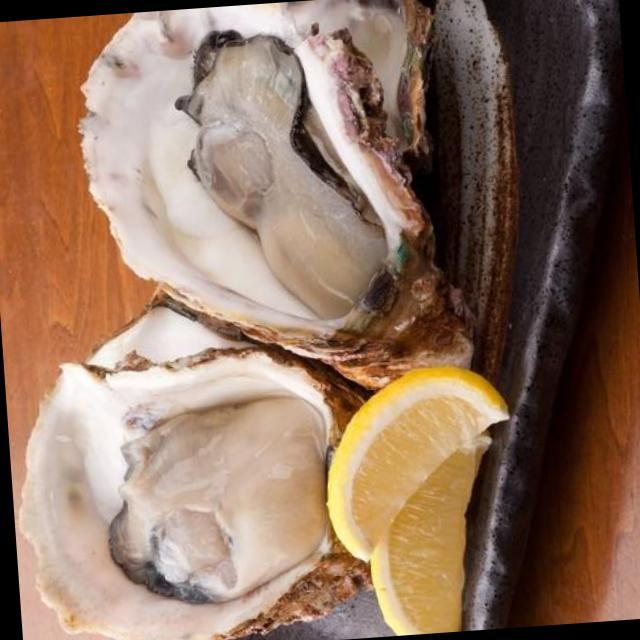Oyster-Open: (67, 0, 482, 415), (0, 279, 383, 640)
